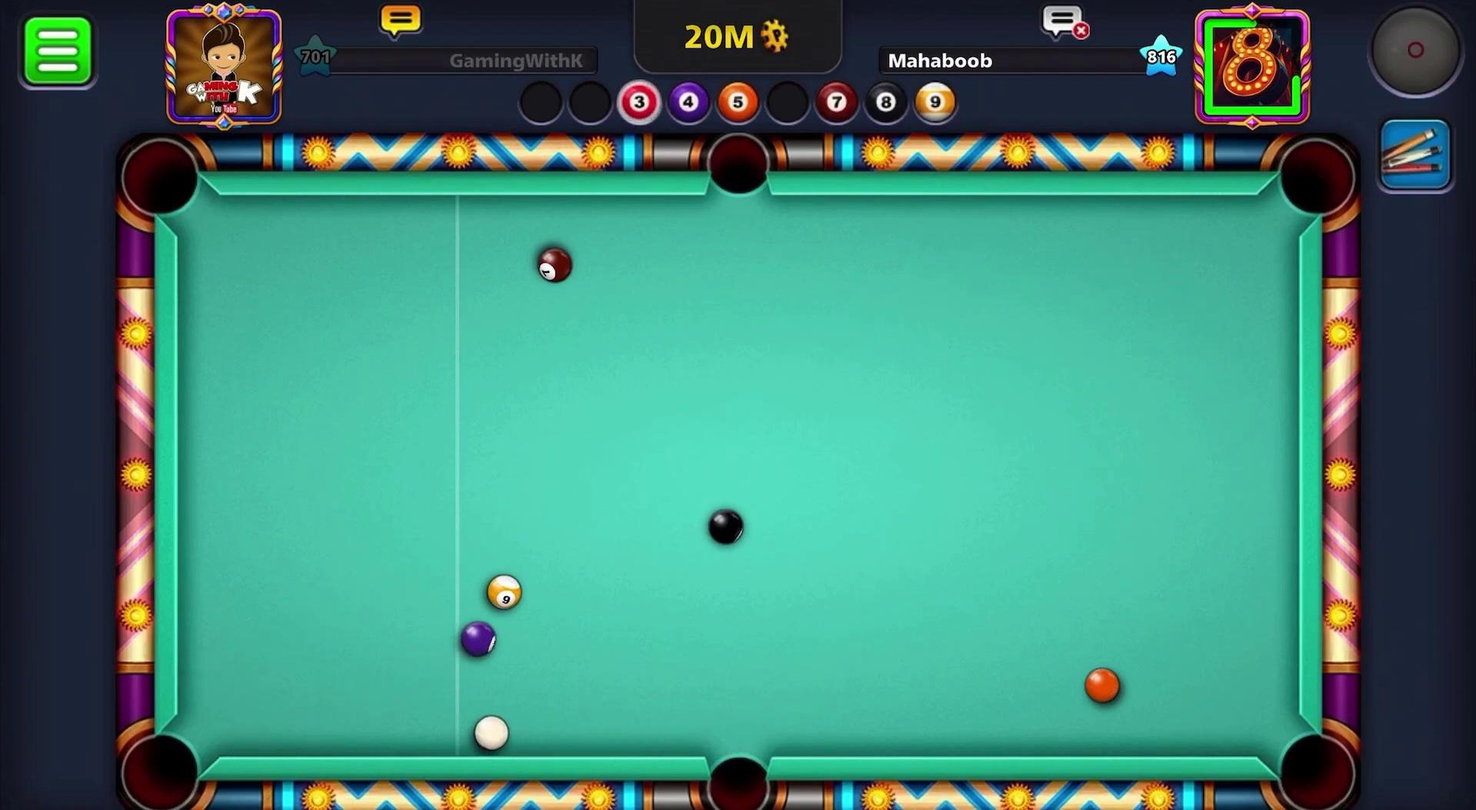Ball: (698, 505, 751, 552), (455, 617, 503, 666), (480, 566, 525, 617), (1078, 664, 1125, 703), (529, 245, 575, 284)
Hole: (1263, 712, 1364, 809), (1268, 133, 1364, 229), (112, 131, 205, 226), (113, 724, 205, 809), (695, 736, 780, 809), (701, 124, 776, 200)
Play_Area: (177, 195, 1298, 755)
Spin: (1355, 2, 1474, 110)
White: (465, 711, 512, 754)
